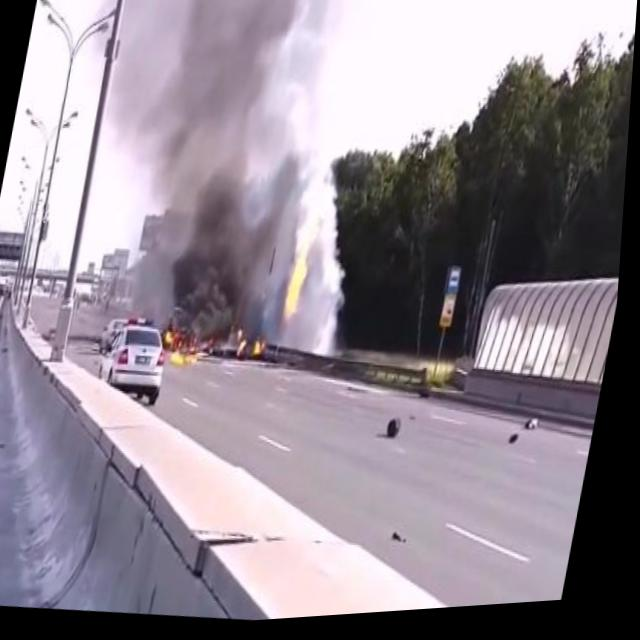fire: (164, 321, 218, 374), (286, 245, 315, 327), (237, 328, 274, 366)
